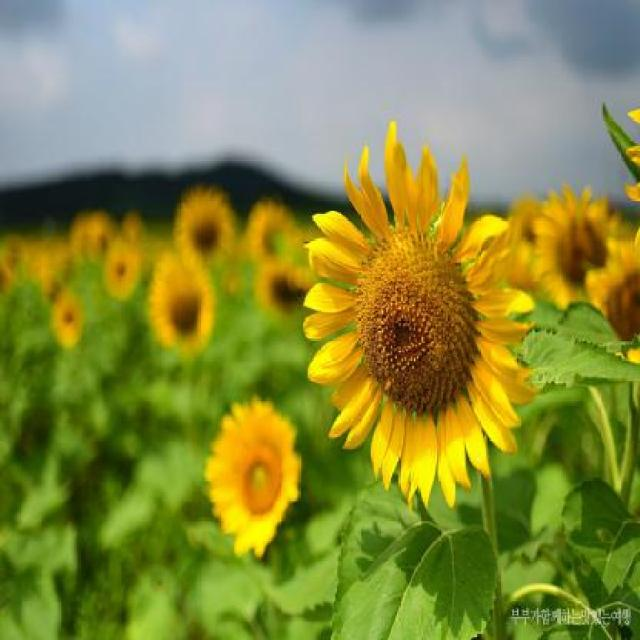sunflower: (283, 115, 548, 510), (202, 396, 306, 566), (148, 254, 217, 358), (167, 180, 237, 274)
